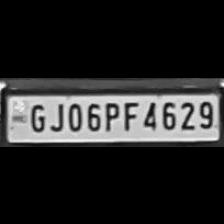0: (66, 99, 82, 130)
2: (177, 97, 195, 131)
4: (138, 98, 158, 130)
6: (158, 98, 176, 130), (84, 99, 100, 130)
9: (194, 97, 214, 128)
F: (120, 99, 138, 130)
G: (27, 99, 46, 130)
J: (48, 99, 64, 130)
P: (101, 98, 119, 130)
